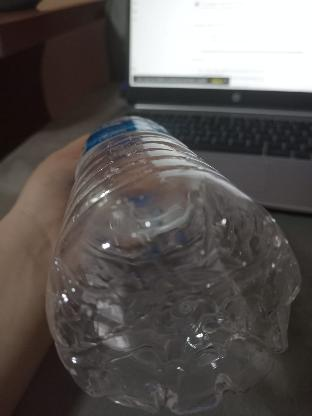Plastic Bottle: (48, 108, 294, 416)
